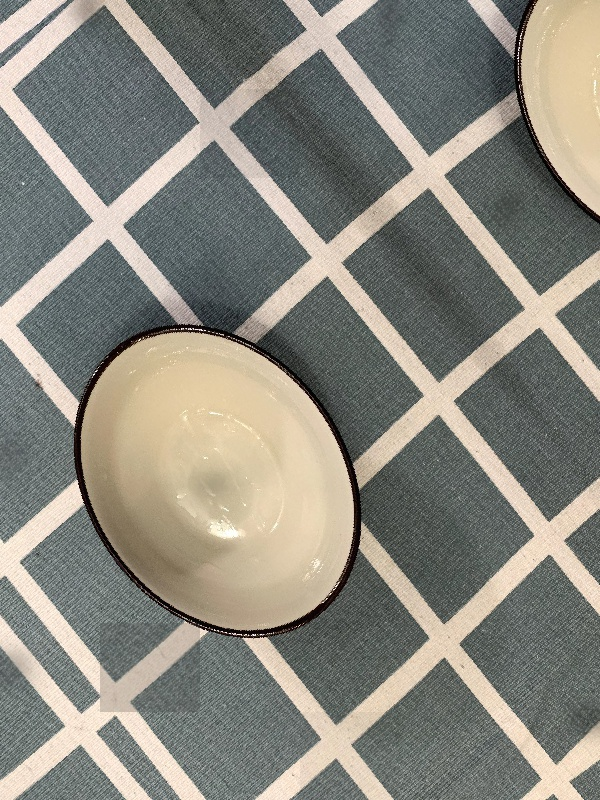bowl_small: (2, 250, 433, 707)
